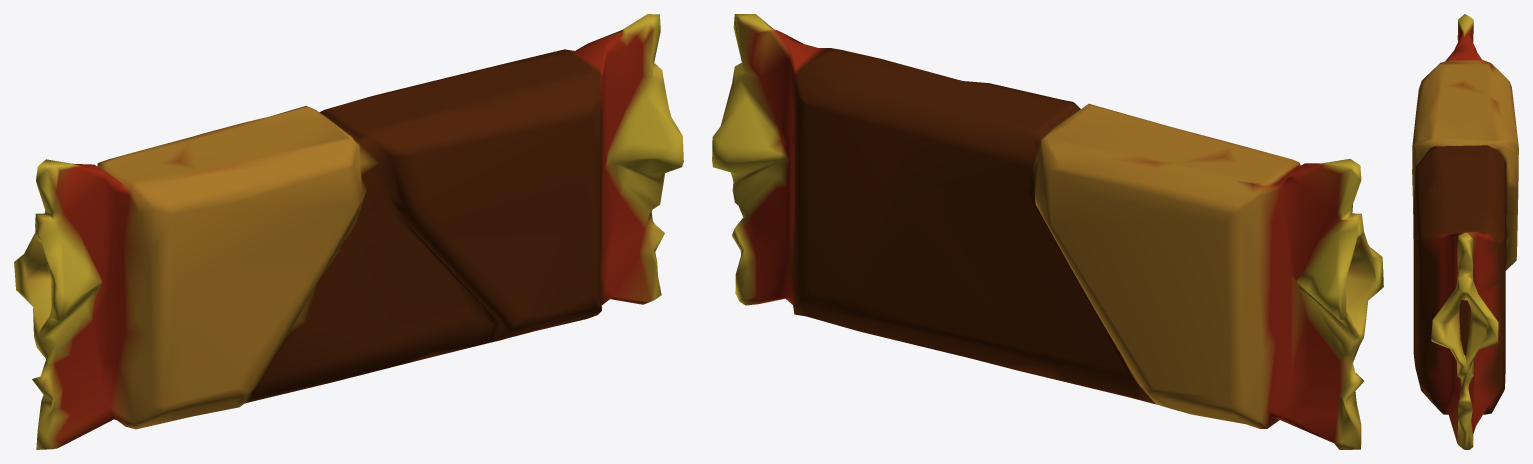
The model's file is gen3d-chocolate-bar-lod0.glb.
3 views of the same model, side by side, from view 1: azimuth 30°, elevation 25°; view 2: azimuth 150°, elevation 25°; view 3: azimuth 270°, elevation 25° (orthographic). The views are drawn at different scales.
Visible parts, largest first — view 1: part_0; view 2: part_0; view 3: part_0.
Part boxes in pixels (x1=…): part_0: x1=14, y1=14, x2=683, y2=449; part_0: x1=712, y1=14, x2=1383, y2=449; part_0: x1=1412, y1=14, x2=1518, y2=449.
Size of the model in its own units: 2.3 by 0.9981 by 0.4551.
